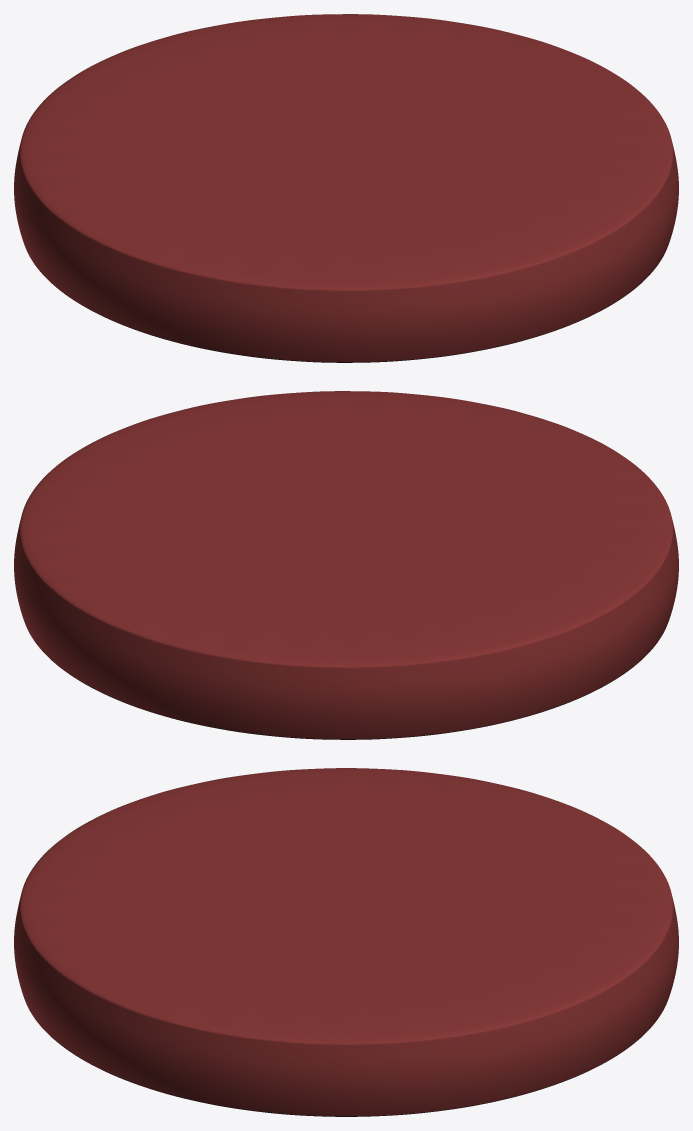
The model's file is meat.fbx.
3 renders of one model, top to bottom at view 1: azimuth 30°, elevation 25°; view 2: azimuth 150°, elevation 25°; view 3: azimuth 270°, elevation 25°, orthographic.
Visible parts, largest first — view 1: meso; view 2: meso; view 3: meso.
Boxes of the visible parts, x1=… form: meso: x1=14, y1=14, x2=678, y2=362; meso: x1=14, y1=391, x2=678, y2=739; meso: x1=14, y1=768, x2=678, y2=1116.
Size of the model in its own units: 237 by 31.68 by 237.
1 material, 1 textured.
